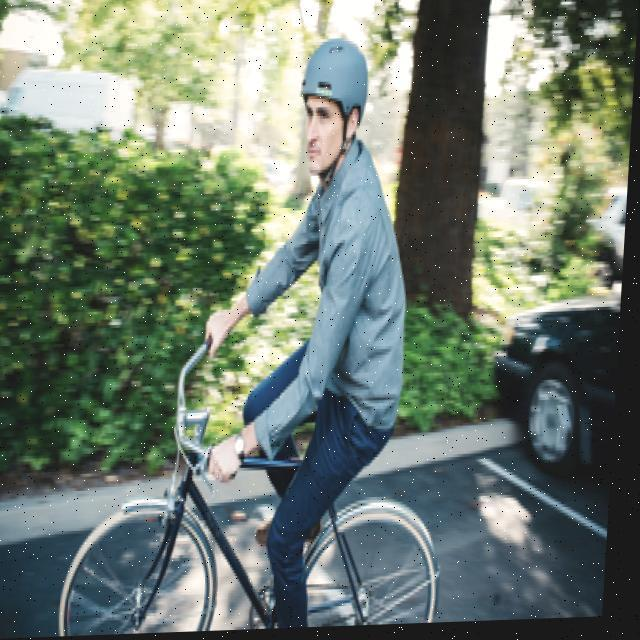Helmet: (290, 31, 385, 185)
